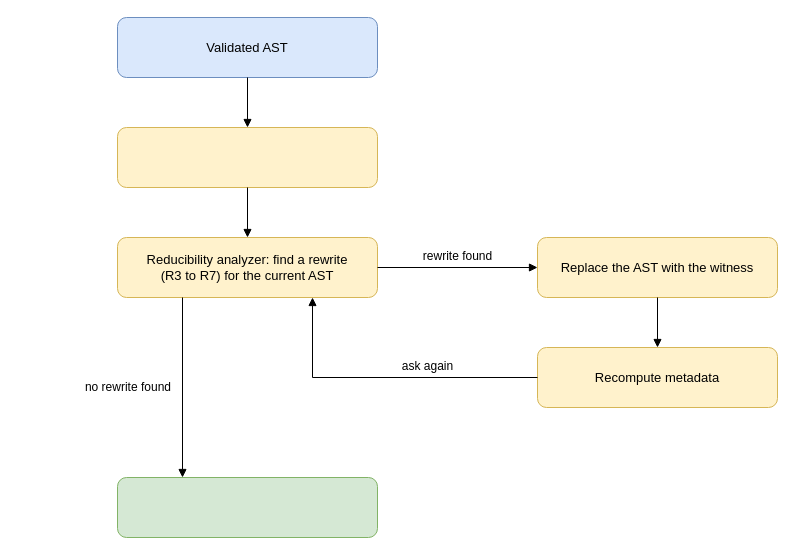
Image size: 795x555. Some labels were removed from this diagram. Each missing label, with the centre of its shape:
"Apply R0a and R0b until nothing changes (canonical form)" goes at [247,157].
"IR compilation: apply R1 and R2 from the final metadata" goes at [247,507].
